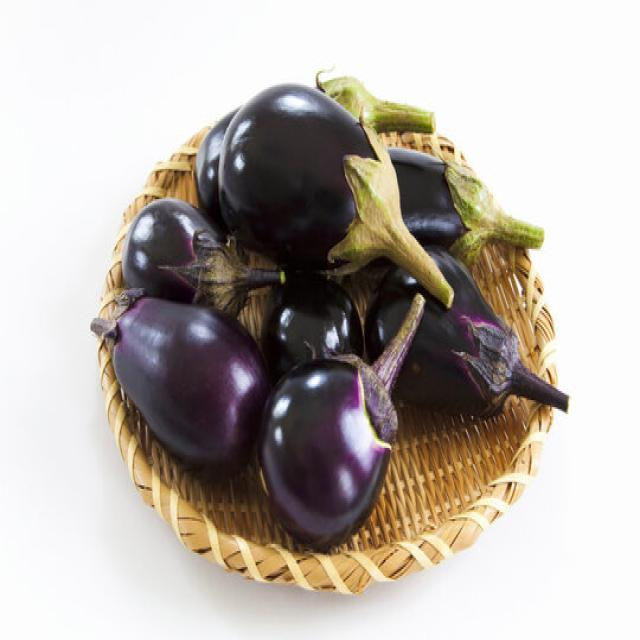Eggplant: (216, 80, 455, 306), (315, 124, 545, 322), (256, 290, 425, 549), (364, 242, 569, 419), (89, 284, 269, 476), (121, 196, 282, 330), (259, 270, 364, 380), (193, 103, 242, 224)
